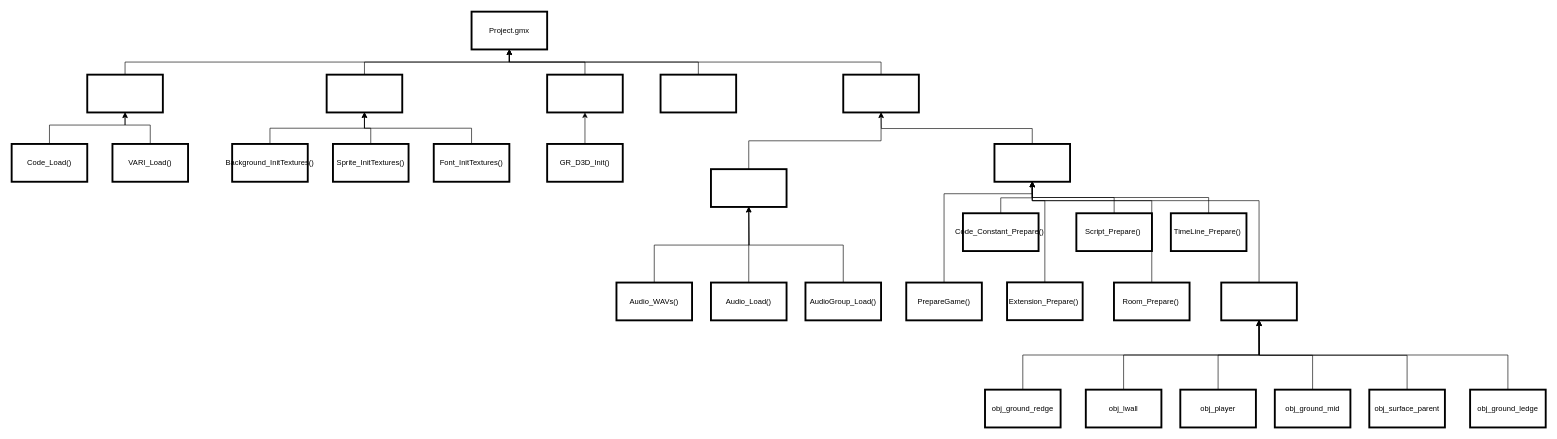
Some shapes in this 1557 by 439 pixel diagram are drawn without their labels. The shapes that lost their labels are listed below. From the top down, each one's centre as x and y in pixels, then its label:
At point (124, 93): "Load".
At point (364, 93): "Textures".
At point (584, 93): "Init Graphics".
At point (698, 93): "Create Load Form LoadGameData()".
At point (880, 93): "Initialization".
At point (1032, 162): "Prepare".
At point (748, 188): "Audio".
At point (1258, 301): "Object_Prepare()".
